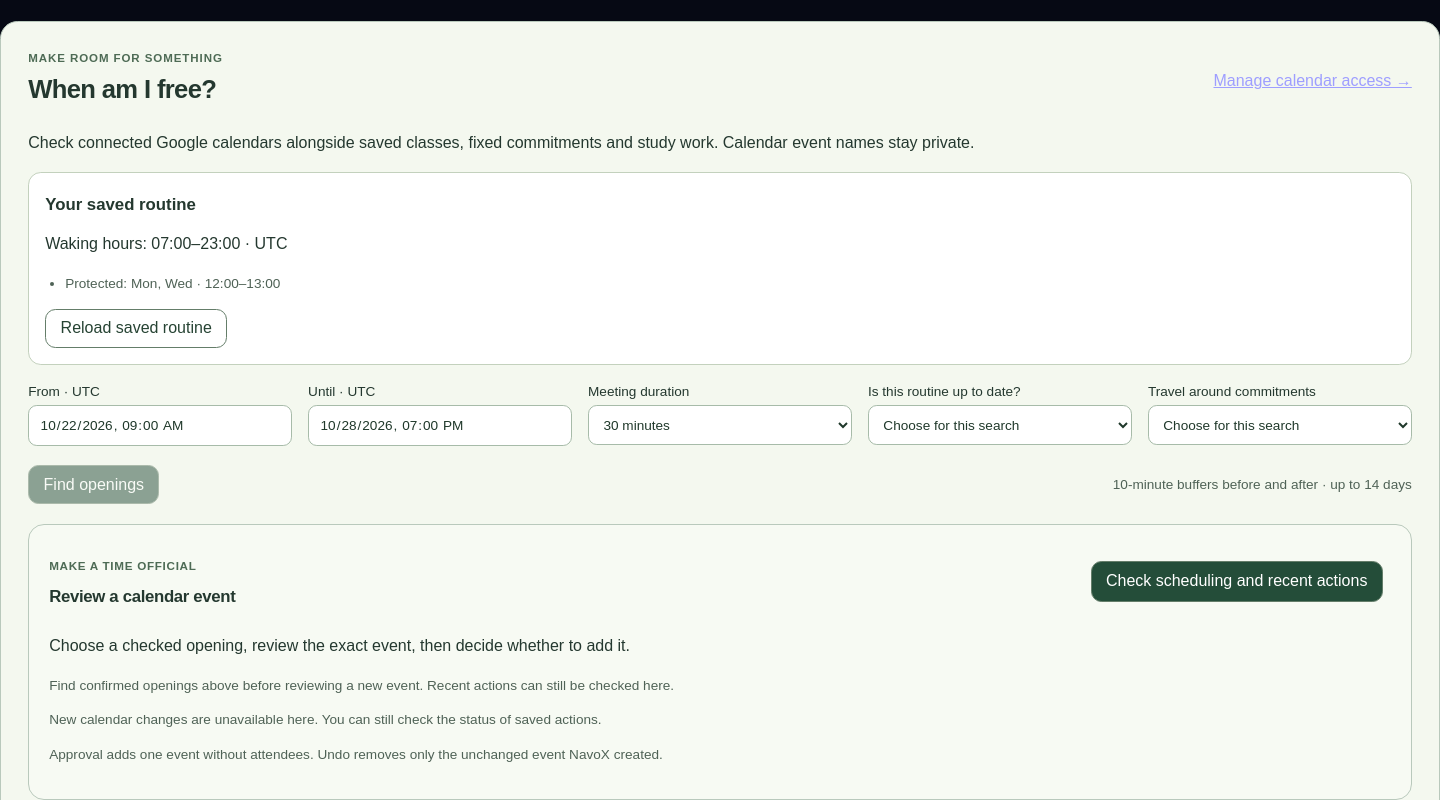
Test: private calendar connection and availability screens › shows unknown coverage/travel/displaced study honestly and never promotes a provisional window
Select "Yes, use these hours" in the dropdown labelled "Is this routine up to date?" at {"x": 1000, "y": 425}, box [868,405,1132,445]
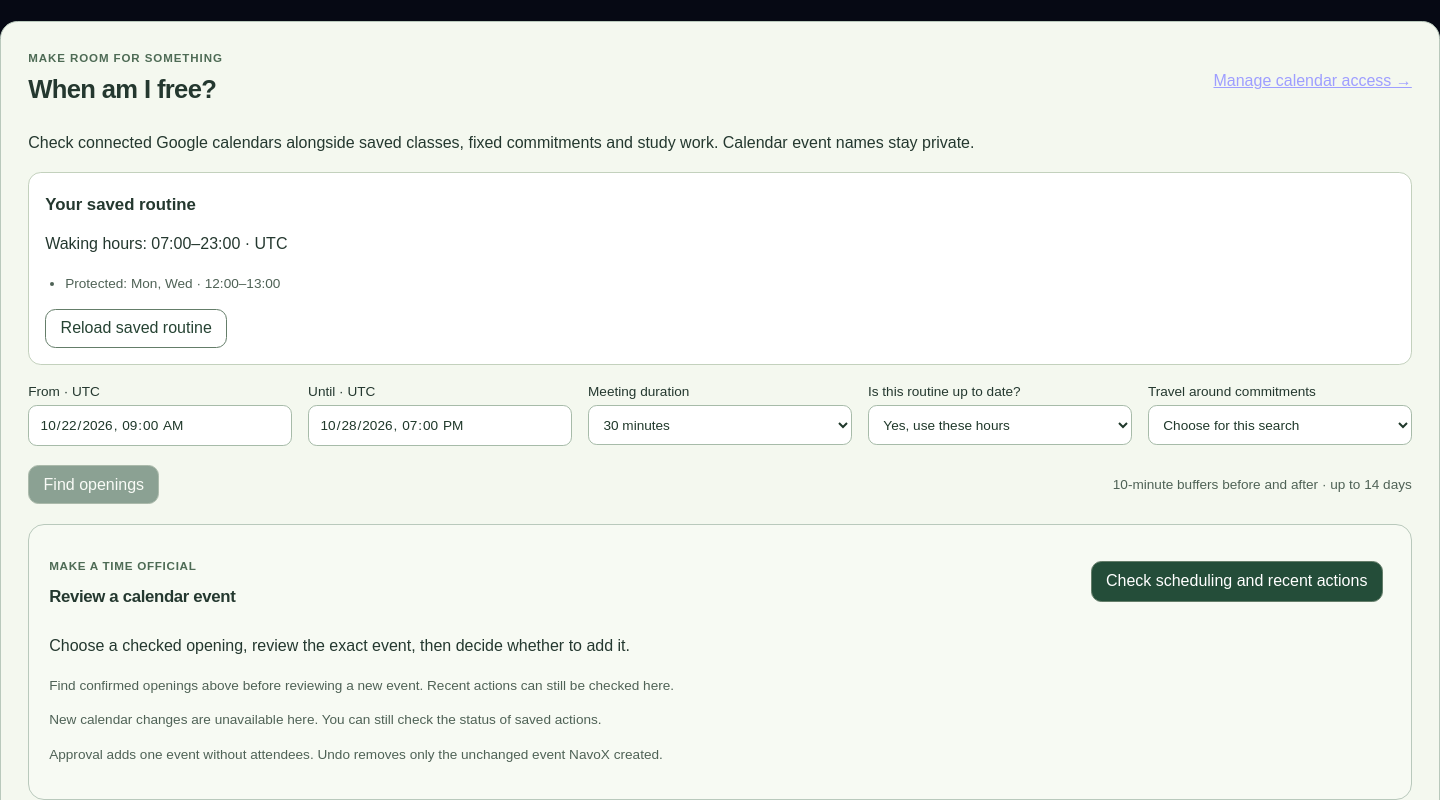
Select "Assume no extra travel for this search" in the dropdown labelled "Travel around commitments" at {"x": 1280, "y": 425}, box [1148,405,1412,445]
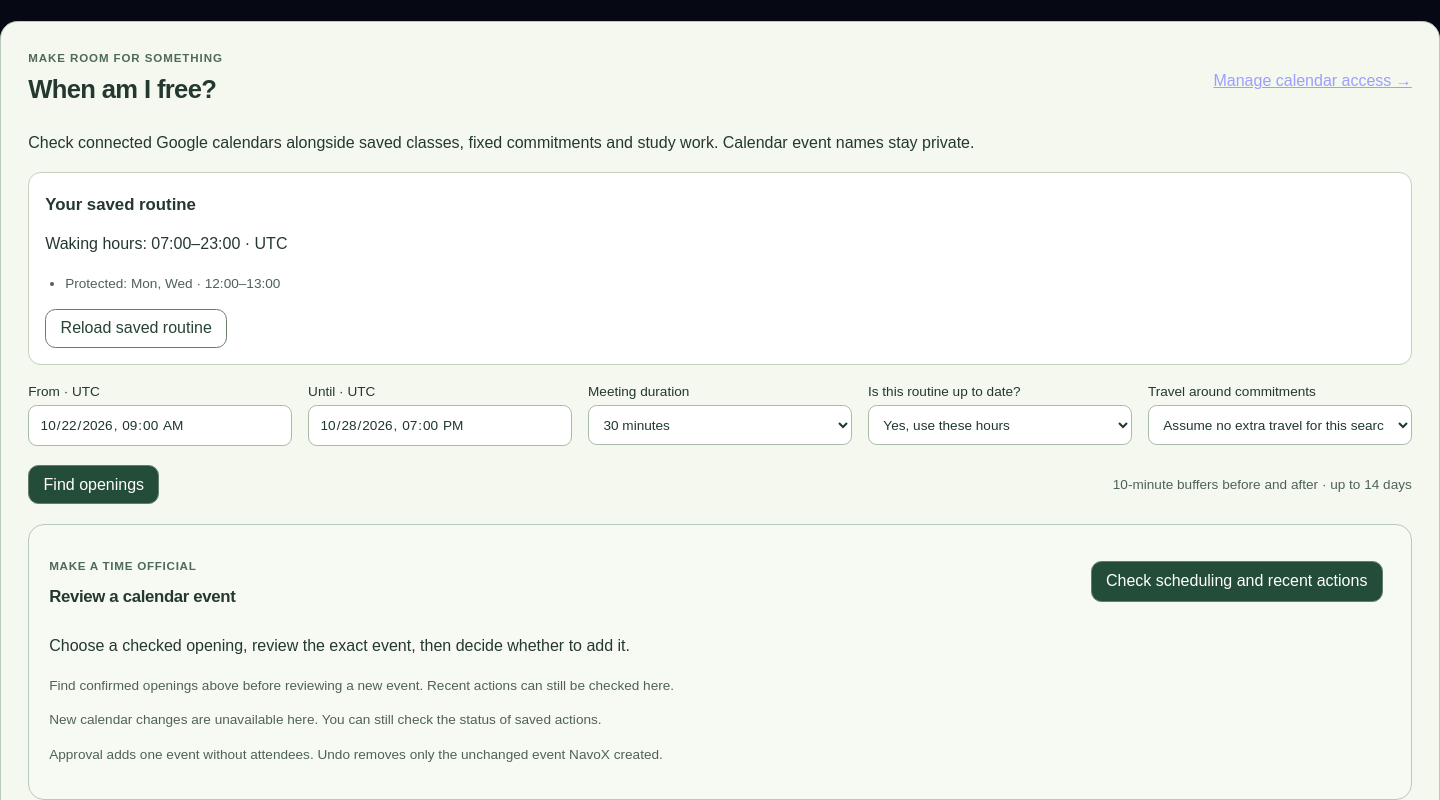
Click the button "Find openings" at {"x": 94, "y": 484}, box [28,465,160,504]
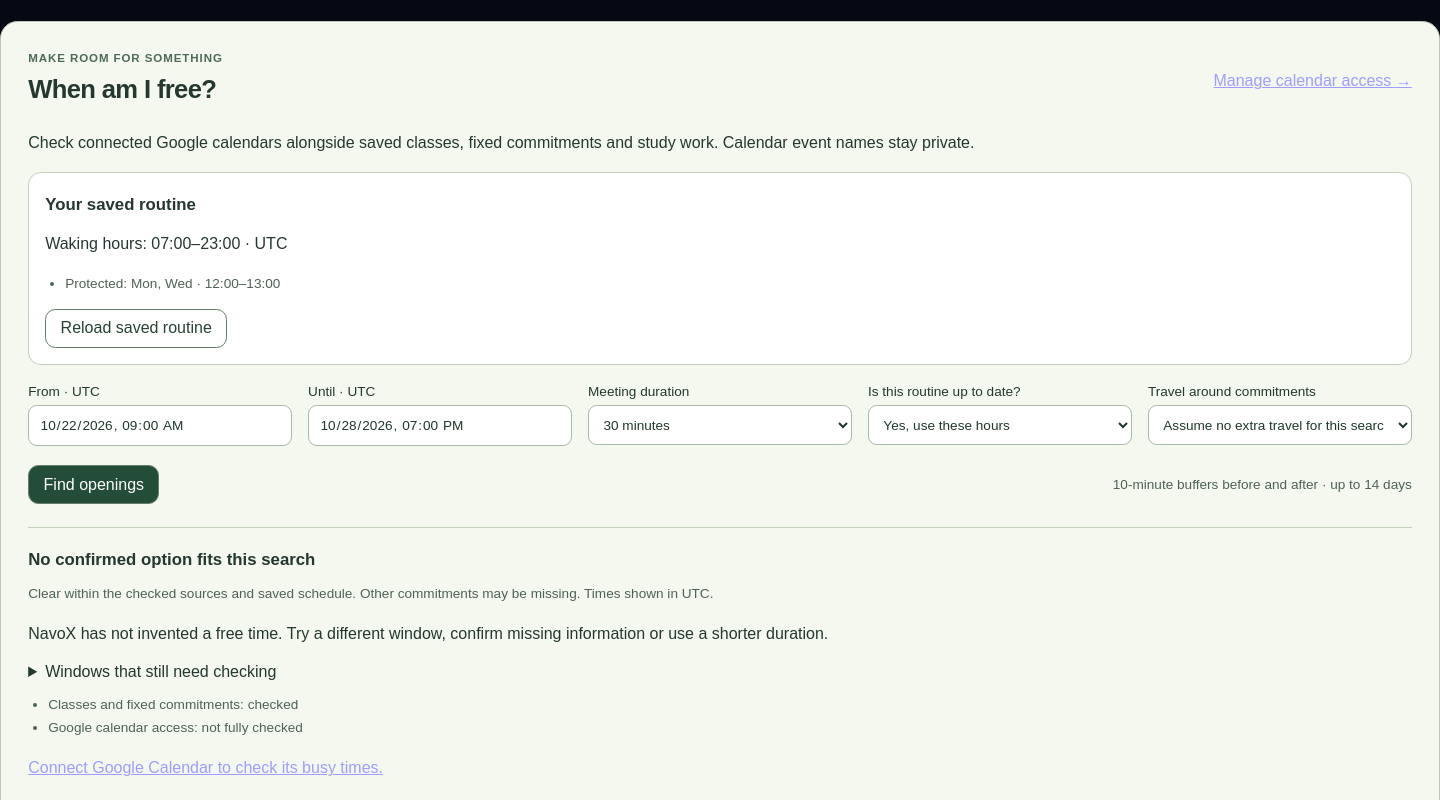
Expected: the link to "/connections" is shown, [1214,72,1412,90]
Result: the text "No confirmed option fits" is shown at [28,550,315,569]
Result: the text "Google calendar access: not fully checked" is shown at [48,720,303,735]
